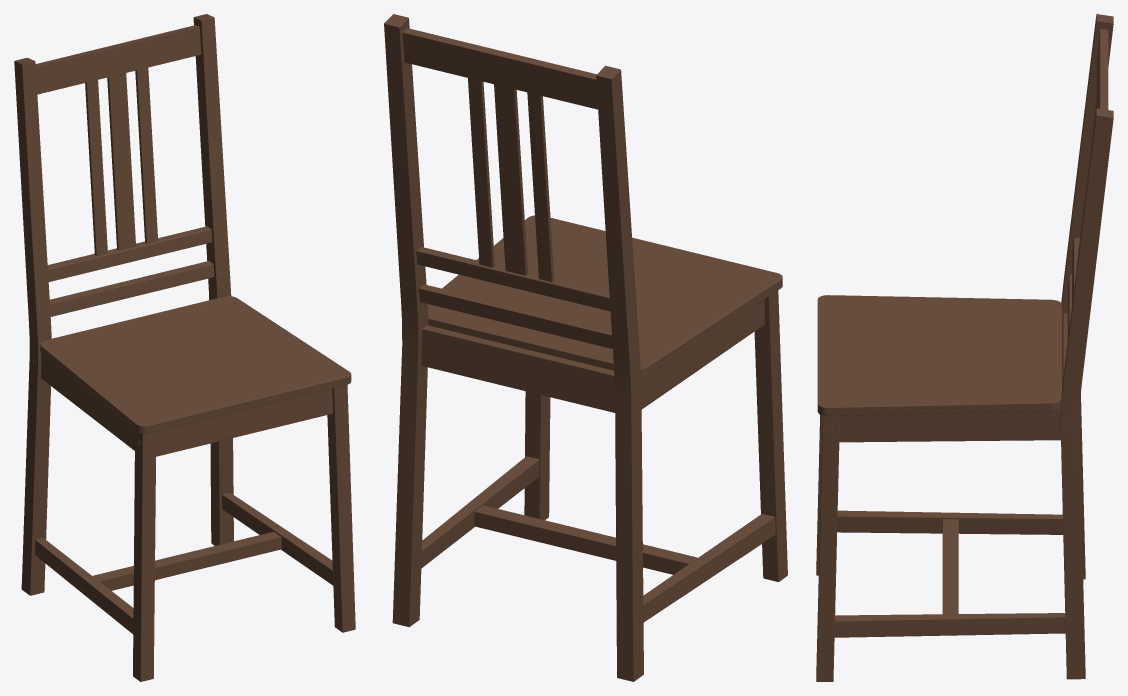
File: Trash chair.fbx
3 views of the same model, side by side, from view 1: azimuth 30°, elevation 25°; view 2: azimuth 150°, elevation 25°; view 3: azimuth 270°, elevation 25° (orthographic). The views are drawn at different scales.
Visible parts, largest first — view 1: node_id30; view 2: node_id30; view 3: node_id30.
Part boxes in pixels (x1,y1,x2,y2): node_id30: (14,14,355,681); node_id30: (384,14,787,681); node_id30: (816,14,1113,681).
Bounding box in the file's own units: 0.2219 × 0.512 × 0.246.
1 material, 1 textured.
